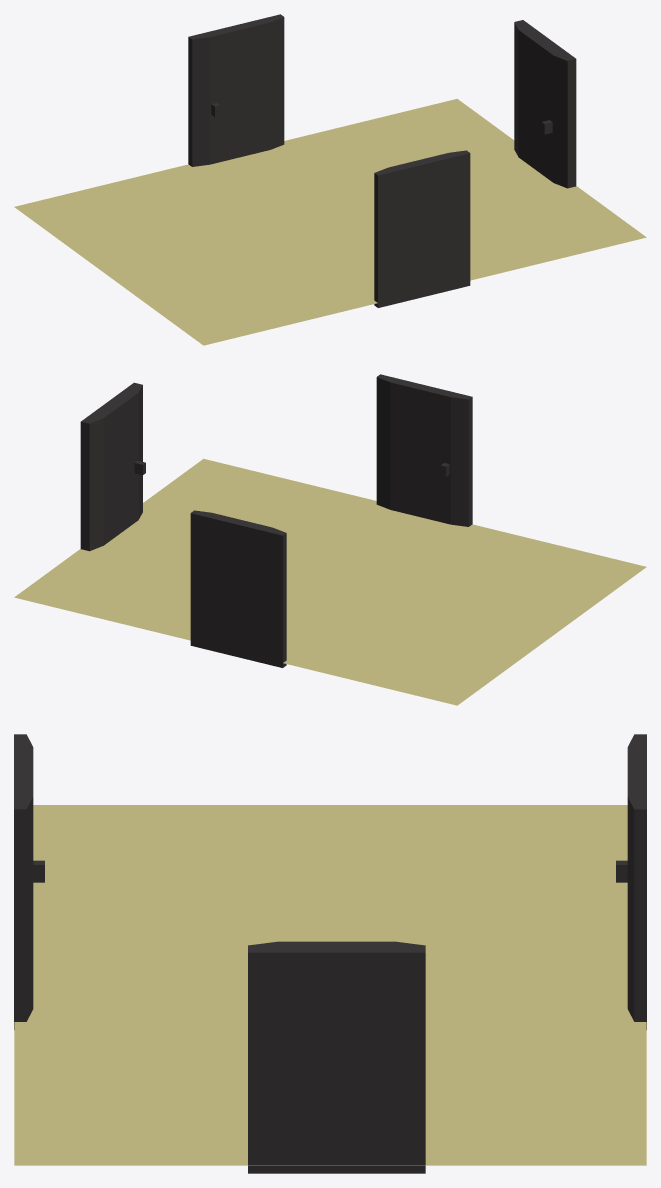
The model's file is ByakkoStage4.2.fbx.
The picture shows the model from 3 angles, top to bottom: view 1: azimuth 30°, elevation 25°; view 2: azimuth 150°, elevation 25°; view 3: azimuth 270°, elevation 25°; orthographic projection. The views are drawn at different scales.
Visible parts, largest first — view 1: Plane.014, Plane.015; view 2: Plane.014, Plane.015; view 3: Plane.014, Plane.015.
Part boxes in pixels (x1=…): Plane.014: x1=14, y1=98, x2=646, y2=345; Plane.015: x1=188, y1=14, x2=576, y2=307; Plane.014: x1=14, y1=458, x2=646, y2=705; Plane.015: x1=80, y1=374, x2=472, y2=667; Plane.014: x1=14, y1=805, x2=646, y2=1165; Plane.015: x1=14, y1=734, x2=646, y2=1173.
Bounding box in the file's own units: 34.3 × 9.8 × 25.43.
